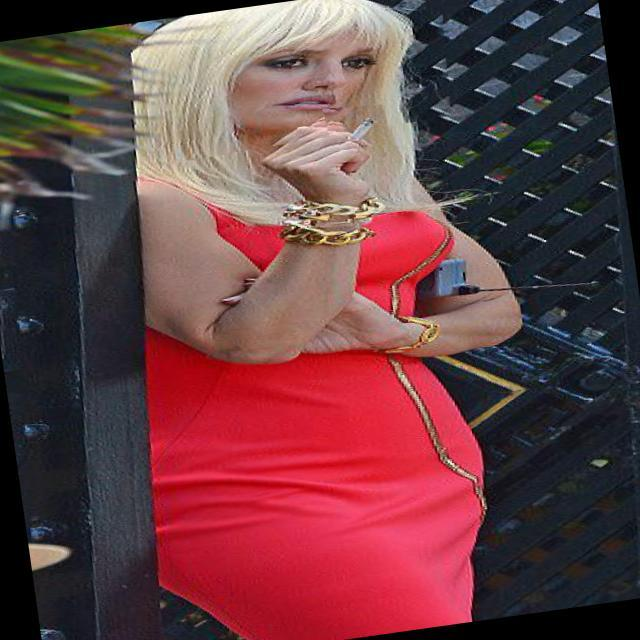cigarette: (323, 100, 390, 152)
